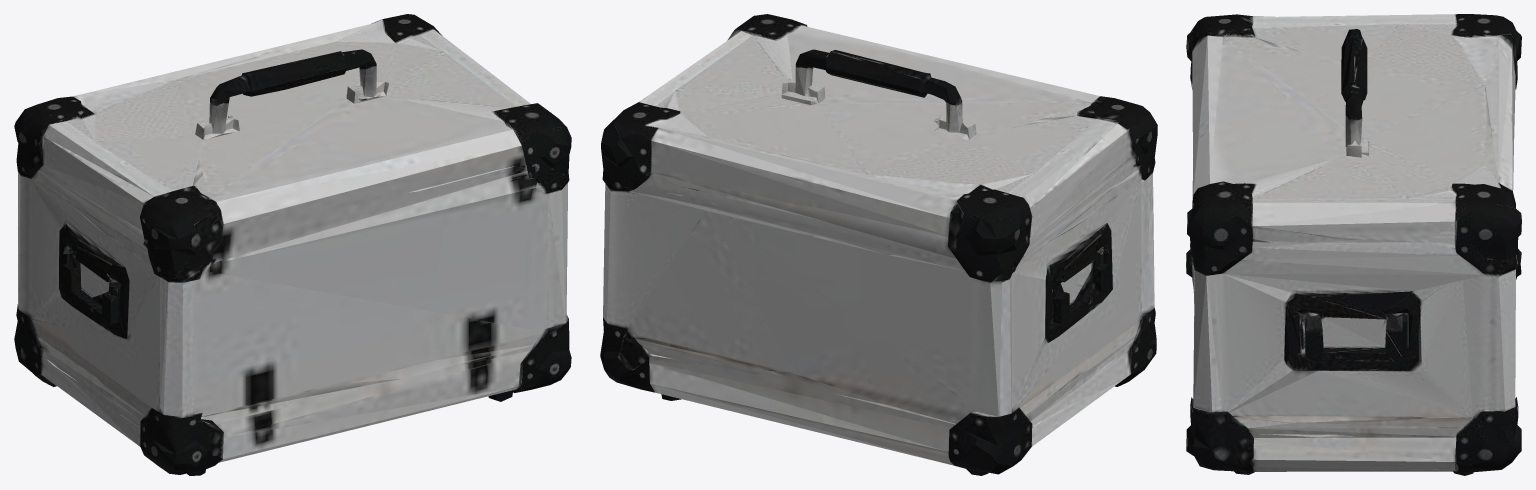
File: malle_alu.glb
3 renders of one model, left to right at view 1: azimuth 30°, elevation 25°; view 2: azimuth 150°, elevation 25°; view 3: azimuth 270°, elevation 25°, orthographic.
Bounding box in the file's own units: 1.9 × 1.46 × 1.32.
Materials: 1 (1 with a texture image).
